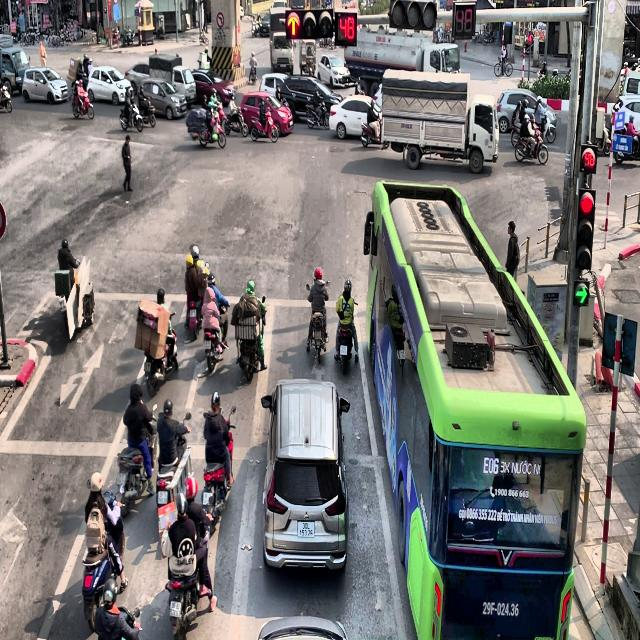lisence_plate: (481, 598, 520, 619), (296, 519, 315, 539), (169, 599, 182, 618)
